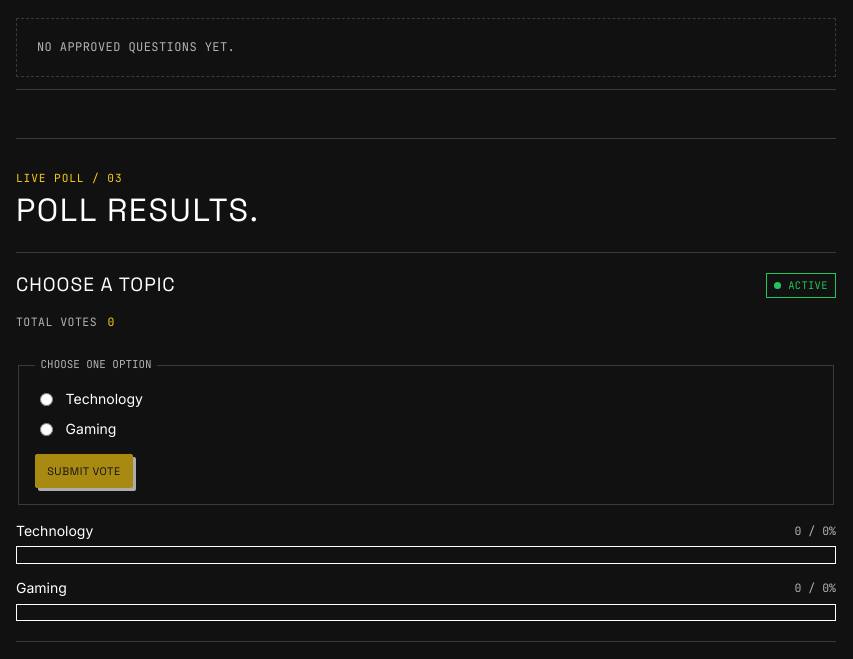
Test: PublicEventPage › submits one vote with the browser key and displays updated results
This screenshot has width=853, height=659.
(page scrolled)
Expected: the heading "Choose a topic" is shown, [16,275,176,295]
Click the radio button labelled "Technology" at (46,400), box [40,393,53,406]
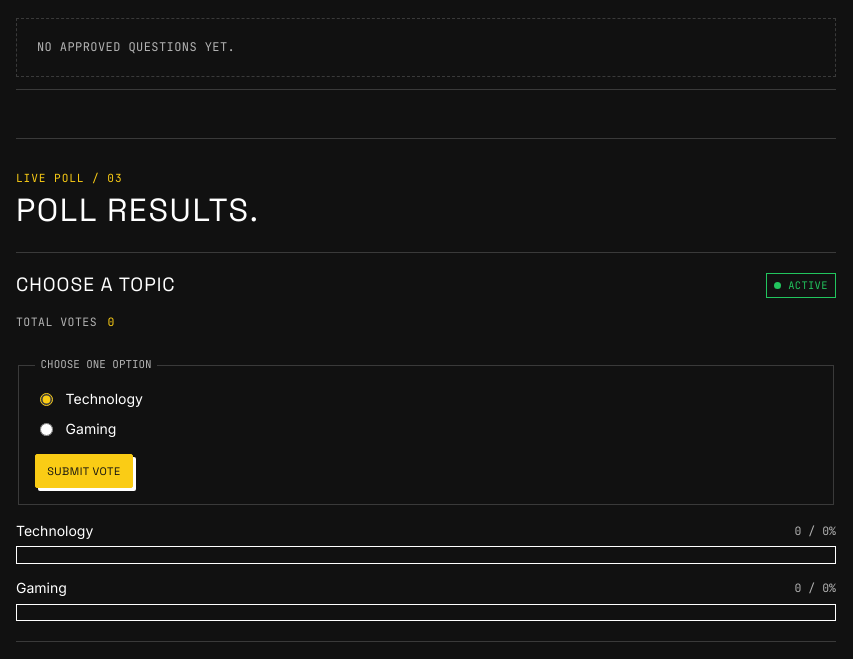
Click the button "SUBMIT VOTE" at (84,471), box [35,454,133,488]
(page scrolled)
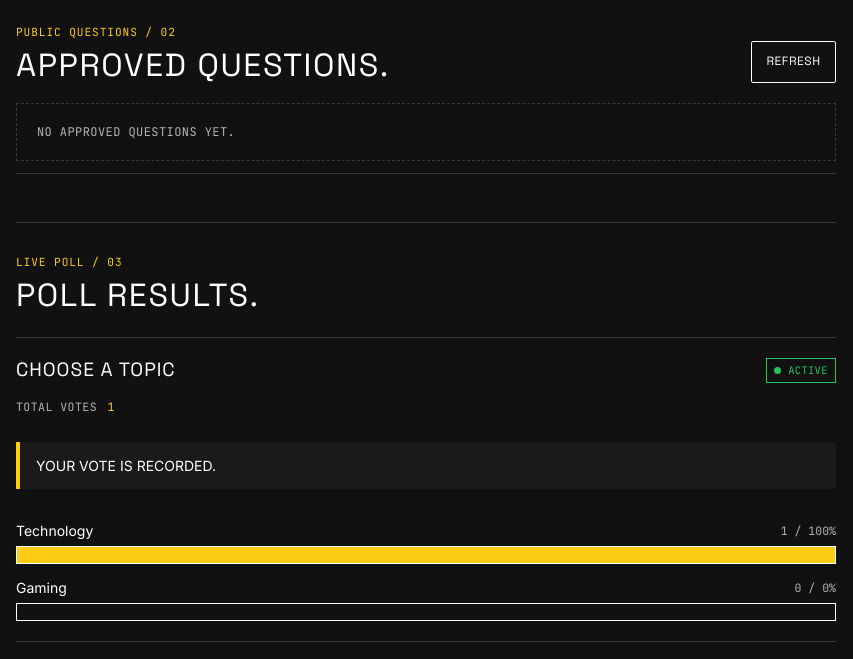
Now the text "1 / 100%" is shown, box [781,523,836,539]
Now the text "YOUR VOTE IS RECORDED." is shown, box [16,442,836,489]
